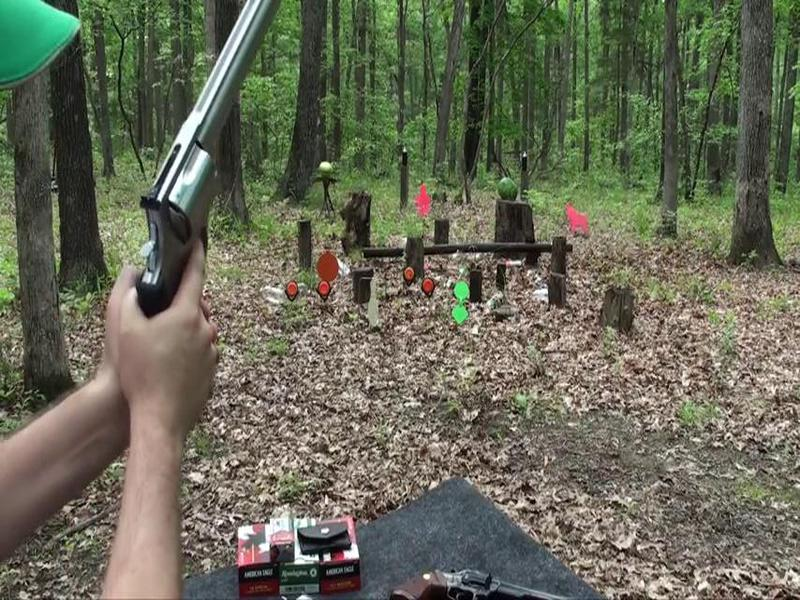Revolver: (99, 1, 341, 344)
